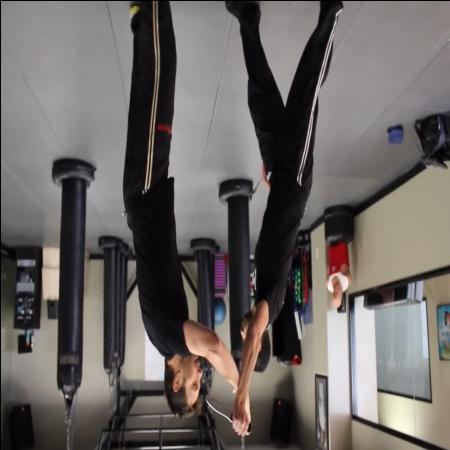long weapon: (203, 390, 253, 438)
